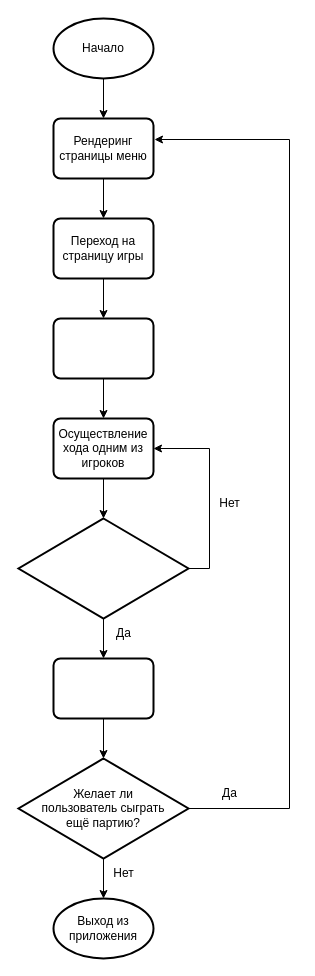
This 315x976 diagram has some shape labels left out. The box of each missing label's shape, as (x1, y1, x2, y2) in pixels:
Вывод сообщения об окончании игры: (52, 657, 154, 719)
Задание начальных условий игры: (52, 317, 154, 379)
Счет одного из игроков составил ноль?: (17, 517, 189, 619)
